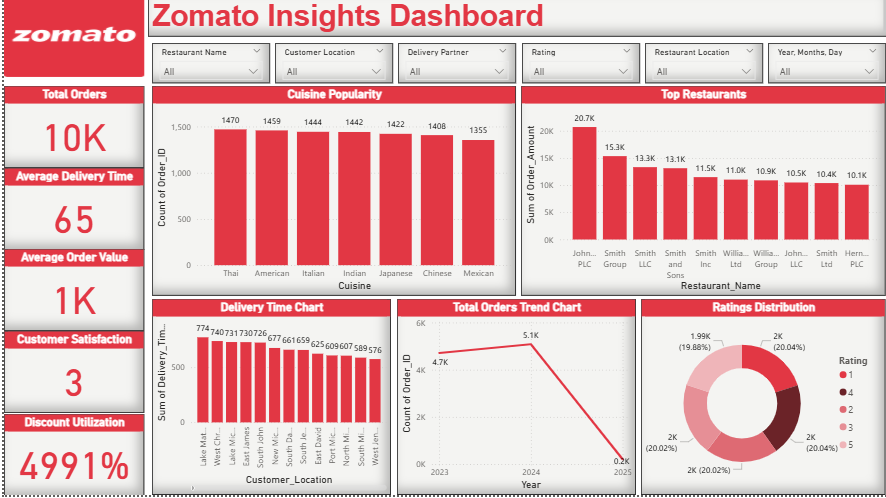

What the dashboard file says about the page in this screenshot:
{"tool":"powerbi","page":{"name":"Zomato Insights Dashboard","canvas":[1280,720],"ordinal":1},"visuals":[{"type":"slicer","fields":{"Values":["Sheet1.Restaurant_Name"]},"box":[213.3,68.7,169.6,58],"z":0,"group":"g1"},{"type":"card","title":"Total Orders","fields":{"Values":["Count(Sheet1.Order_ID)"]},"box":[0,131,201.6,117.6],"z":0,"group":"g2"},{"type":"columnChart","title":"Top Restaurants","fields":{"Category":["Sheet1.Restaurant_Name"],"Y":["Sum(Sheet1.Order_Amount)"]},"box":[745,131.4,525,302.1],"z":0},{"type":"lineChart","title":"Total Orders Trend Chart","fields":{"Category":["Sheet1.Order_Date.Variation.Date Hierarchy.Year"],"Y":["CountNonNull(Sheet1.Order_ID)"]},"box":[565.5,438.3,344,281.7],"z":0,"group":"g3"},{"type":"slicer","fields":{"Values":["Sheet1.Customer_Location"]},"box":[390.7,68.7,169.6,58],"z":1000,"group":"g1"},{"type":"columnChart","title":"Cuisine Popularity","fields":{"Category":["Sheet1.Cuisine"],"Y":["CountNonNull(Sheet1.Order_ID)"]},"box":[213.6,131.4,524.3,302.1],"z":1000},{"type":"card","title":"Average Delivery Time","fields":{"Values":["Avg(Sheet1.Delivery_Time_Minutes)"]},"box":[0,248.6,201.6,117.6],"z":1000,"group":"g2"},{"type":"columnChart","title":"Delivery Time Chart","fields":{"Category":["Sheet1.Customer_Location"],"Y":["Sum(Sheet1.Delivery_Time_Minutes)"]},"box":[213.3,438.3,344,281.7],"z":1000,"group":"g3"},{"type":"textbox","box":[206.7,0,1073.3,60],"z":2000},{"type":"slicer","fields":{"Values":["Sheet1.Delivery_Partner"]},"box":[568.1,68.7,169.6,58],"z":2000,"group":"g1"},{"type":"card","title":"Average Order Value","fields":{"Values":["Avg(Sheet1.Order_Amount)"]},"box":[0,366.2,201.6,117.6],"z":2000,"group":"g2"},{"type":"donutChart","title":"Ratings Distribution ","fields":{"Category":["Sheet1.Rating"],"Y":["CountNonNull(Sheet1.Order_ID)"]},"box":[917.7,438.3,352.2,281.7],"z":2000,"group":"g3"},{"type":"image","box":[0,0,201.7,118.3],"z":3000},{"type":"slicer","fields":{"Values":["Sheet1.Rating"]},"box":[745.5,68.7,169.6,58],"z":3000,"group":"g1"},{"type":"card","title":"Customer Satisfaction","fields":{"Values":["Avg(Sheet1.Rating)"]},"box":[0,483.8,201.6,117.6],"z":3000,"group":"g2"},{"type":"group","id":"g1","title":"Group 2","box":[213.3,68.7,1056.7,58],"z":4000},{"type":"slicer","fields":{"Values":["Sheet1.Restaurant_Location"]},"box":[922.9,68.7,169.6,58],"z":4000,"group":"g1"},{"type":"card","title":"Discount Utilization","fields":{"Values":["Sheet1.Discount Utilization (%)"]},"box":[0,603,201.6,117.6],"z":4000,"group":"g2"},{"type":"slicer","fields":{"Values":["Sheet1.Order_Date.Variation.Date Hierarchy.Year","Sheet1.Order_Date.Variation.Date Hierarchy.Month","Sheet1.Order_Date.Variation.Date Hierarchy.Day"]},"box":[1100.3,68.7,169.6,58],"z":5000,"group":"g1"},{"type":"group","id":"g2","title":"Group 5","box":[0,131,201.6,589.6],"z":5000},{"type":"group","id":"g3","title":"Group 1","box":[213.3,438.3,1056.7,281.7],"z":6000}]}

Visuals, with their boxes in screenshot pixels (x1, y1, x2, y2), scaled from the page's 1280x720 canvas onto the 886x498 screenshot:
slicer - Sheet1.Restaurant_Name: box=[148, 48, 265, 88]
"Total Orders" card: box=[0, 91, 140, 172]
"Top Restaurants" columnChart: box=[516, 91, 879, 300]
"Total Orders Trend Chart" lineChart: box=[391, 303, 630, 497]
slicer - Sheet1.Customer_Location: box=[270, 48, 388, 88]
"Cuisine Popularity" columnChart: box=[148, 91, 511, 300]
"Average Delivery Time" card: box=[0, 172, 140, 253]
"Delivery Time Chart" columnChart: box=[148, 303, 386, 497]
textbox: box=[143, 0, 885, 42]
slicer - Sheet1.Delivery_Partner: box=[393, 48, 511, 88]
"Average Order Value" card: box=[0, 253, 140, 335]
"Ratings Distribution " donutChart: box=[635, 303, 879, 497]
image: box=[0, 0, 140, 82]
slicer - Sheet1.Rating: box=[516, 48, 633, 88]
"Customer Satisfaction" card: box=[0, 335, 140, 416]
"Group 2" group: box=[148, 48, 879, 88]
slicer - Sheet1.Restaurant_Location: box=[639, 48, 756, 88]
"Discount Utilization" card: box=[0, 417, 140, 497]
slicer - Sheet1.Order_Date.Variation.Date Hierarchy.Year x Sheet1.Order_Date.Variation.Date Hierarchy.Month: box=[762, 48, 879, 88]
"Group 5" group: box=[0, 91, 140, 497]
"Group 1" group: box=[148, 303, 879, 497]
